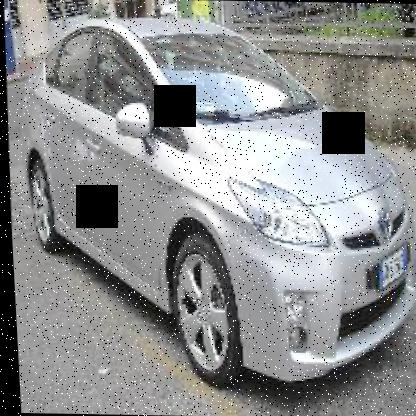not_emergency: (6, 9, 415, 397)
